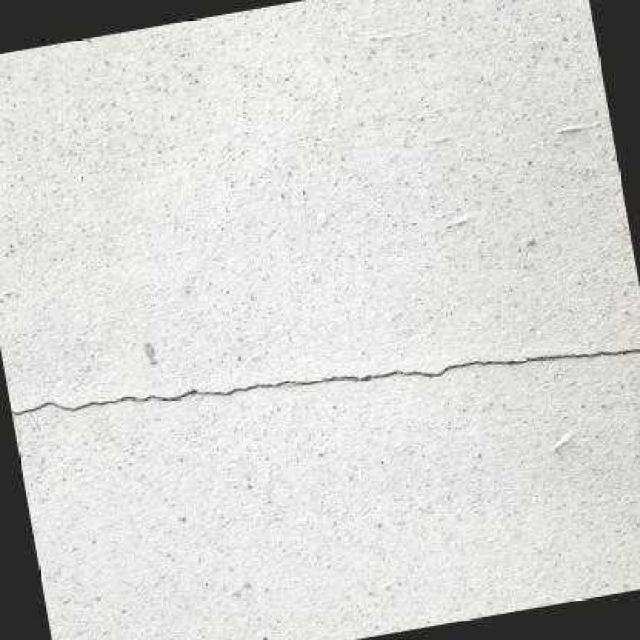D00: (11, 347, 640, 413)
